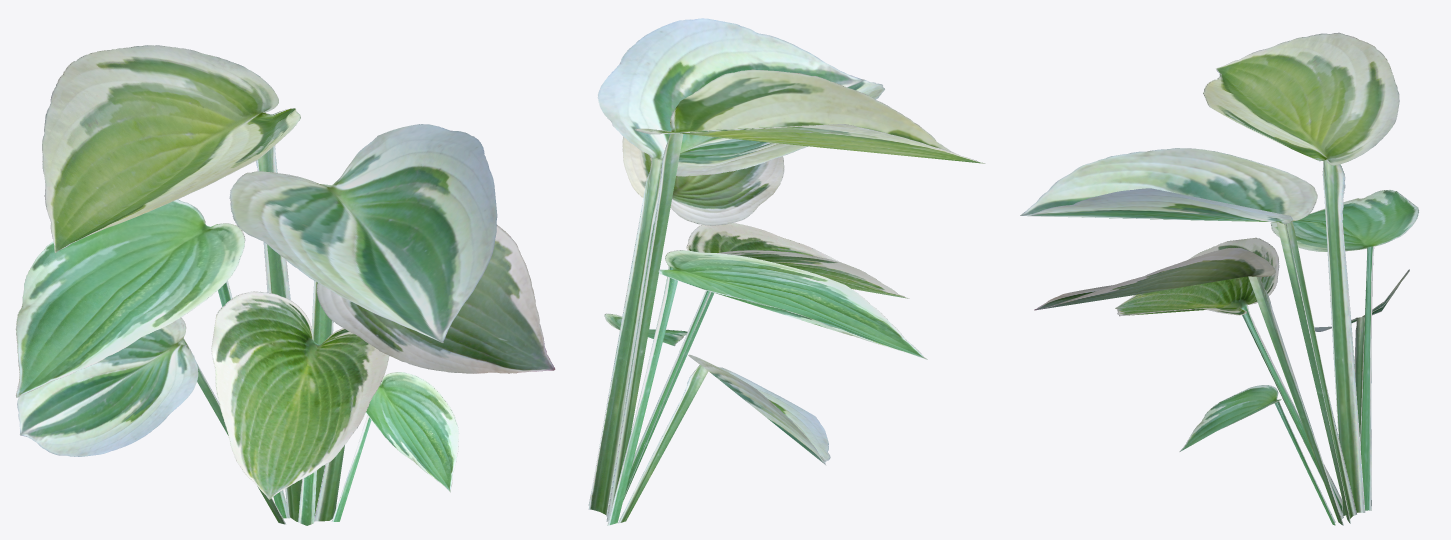
The model's file is plant_small_wg_00_i-corner04.fbx.
3 views of the same model, side by side, from view 1: azimuth 30°, elevation 25°; view 2: azimuth 150°, elevation 25°; view 3: azimuth 270°, elevation 25° (orthographic). The views are drawn at different scales.
Parts seen in each view (by area): view 1: plant_small_wg_00_i-corner04; view 2: plant_small_wg_00_i-corner04; view 3: plant_small_wg_00_i-corner04.
Part boxes in pixels (x1,y1,x2,y2): plant_small_wg_00_i-corner04: [15, 45, 555, 525]; plant_small_wg_00_i-corner04: [588, 18, 985, 525]; plant_small_wg_00_i-corner04: [1020, 32, 1418, 525].
Size of the model in its own units: 36.49 by 40.95 by 39.48.
1 material, 1 textured.
